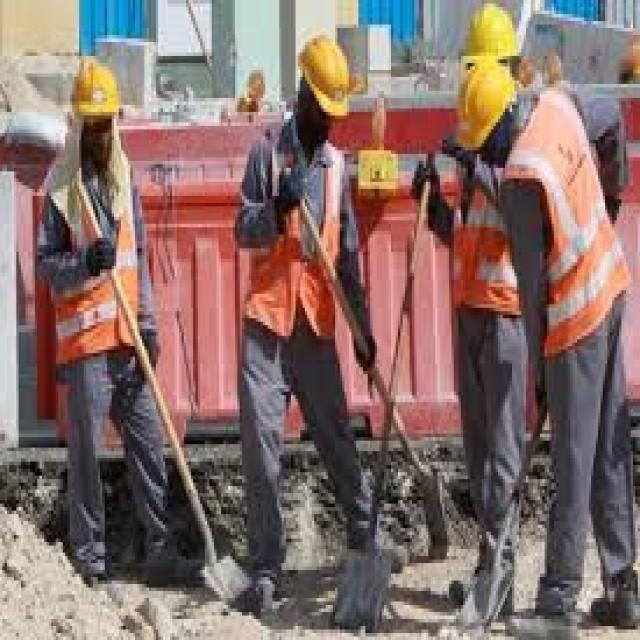reflective_jacket: (498, 90, 630, 357), (235, 129, 360, 360), (32, 157, 151, 395)
safety_helmet: (446, 59, 528, 157), (291, 24, 363, 125), (60, 48, 130, 133), (454, 0, 526, 73)
